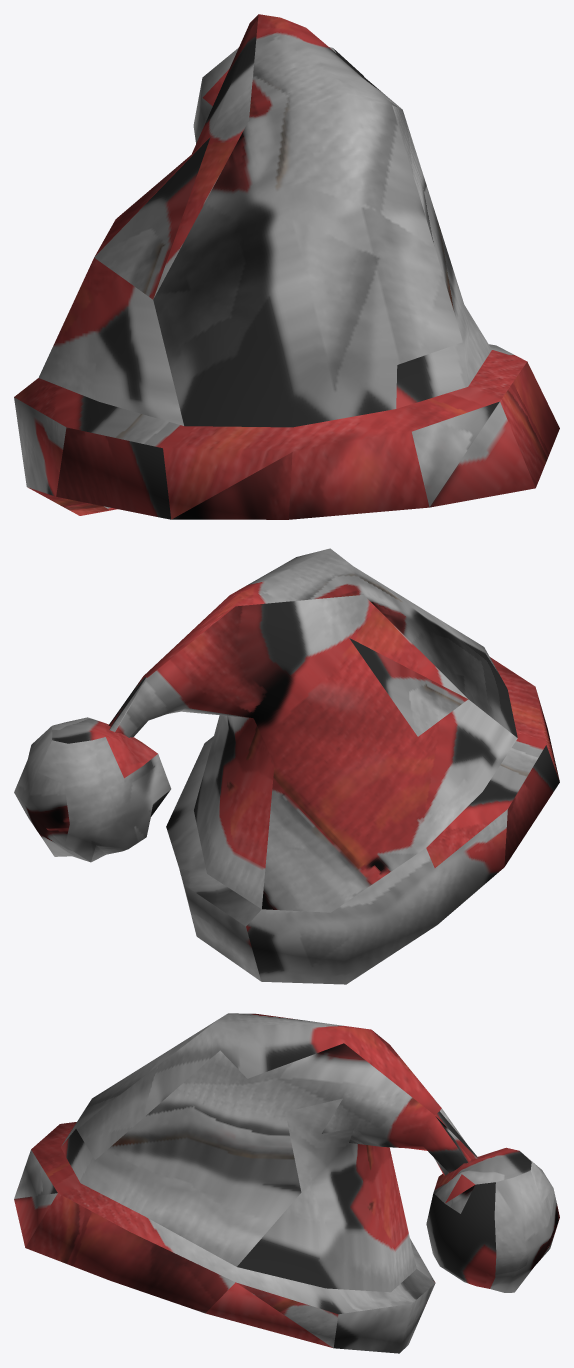
Rendered from SantaHat.glb.
3 views of the same model, one above another, from view 1: azimuth 30°, elevation 25°; view 2: azimuth 150°, elevation 25°; view 3: azimuth 270°, elevation 25° (orthographic). The views are drawn at different scales.
Visible parts, largest first — view 1: Santa Hat; view 2: Santa Hat; view 3: Santa Hat.
Boxes of the visible parts, x1,y1,x2,y2 form: Santa Hat: [14, 14, 559, 519]; Santa Hat: [14, 548, 559, 984]; Santa Hat: [14, 1013, 559, 1353].
Size of the model in its own units: 0.2419 by 0.2298 by 0.3348.
1 material, 1 textured.
